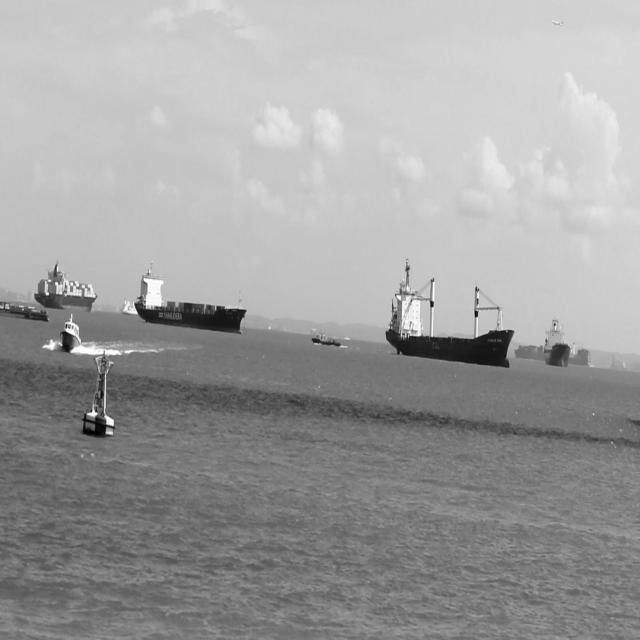buoy: (81, 352, 116, 440)
ship: (384, 255, 516, 368), (134, 260, 248, 335), (34, 259, 98, 314), (514, 343, 591, 368), (543, 318, 571, 368), (0, 300, 49, 322), (59, 315, 82, 353), (310, 332, 342, 348), (121, 298, 138, 316)
